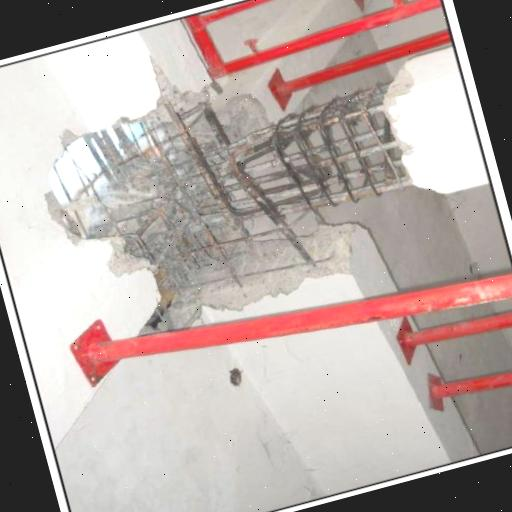spalling: (76, 66, 418, 286)
